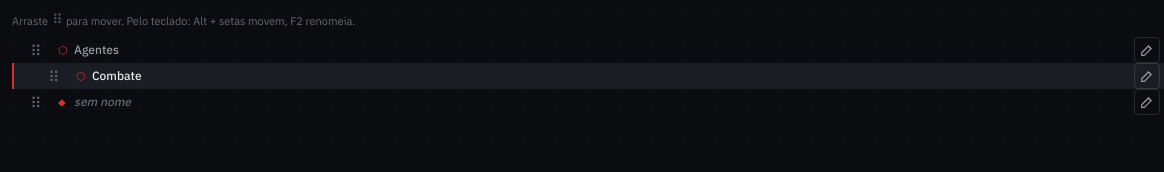
Test: OficinaSumario › F2 abre o campo de nome; Enter renomeia, Esc cancela
The image size is (1164, 172).
Press F2 in the button with class "oficina-sumario__nome" showing "⬡ Agentes", box 54,37 -> 1130,63
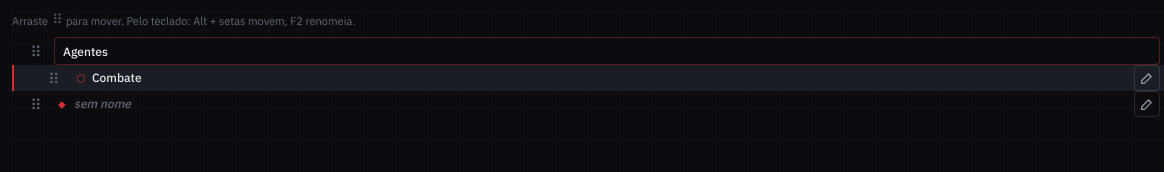
Replace the text in the field with class "oficina-sumario__campo" with "Agentes de Campo" at (607, 51), box 54,37 -> 1160,65
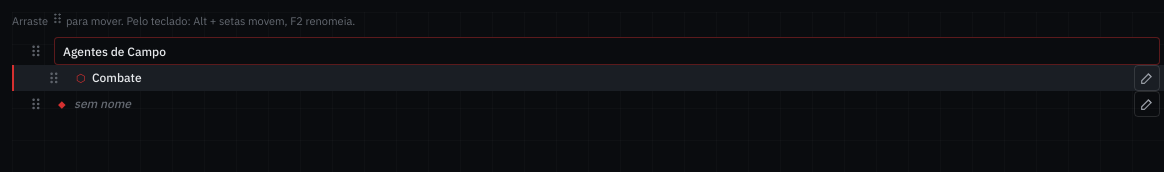
Press Enter in the field with class "oficina-sumario__campo", box 54,37 -> 1160,65
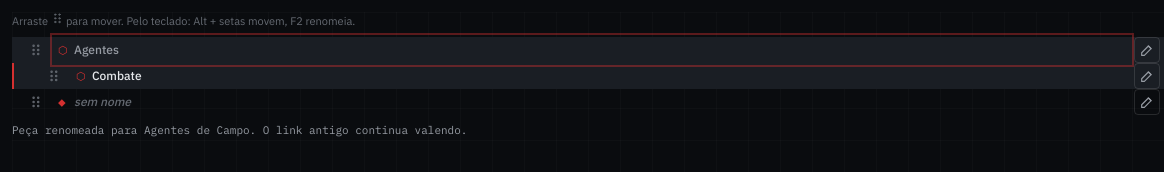
Check: the field with class "oficina-sumario__campo" is gone
Press F2 in the button with class "oficina-sumario__nome" showing "⬡ Combate", box 72,63 -> 1130,89
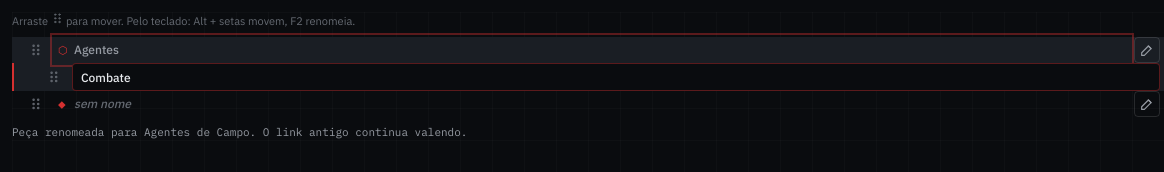
Press Escape in the field with class "oficina-sumario__campo", box 72,63 -> 1160,91
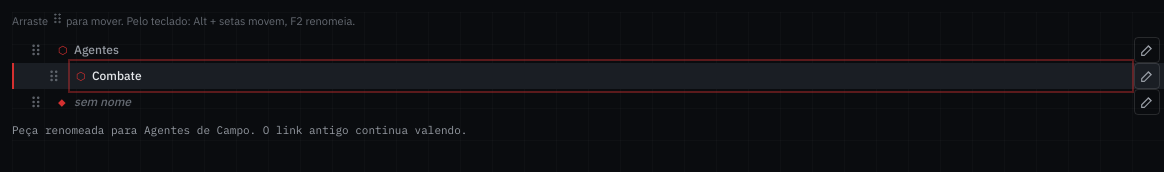
Check: the field with class "oficina-sumario__campo" is gone
